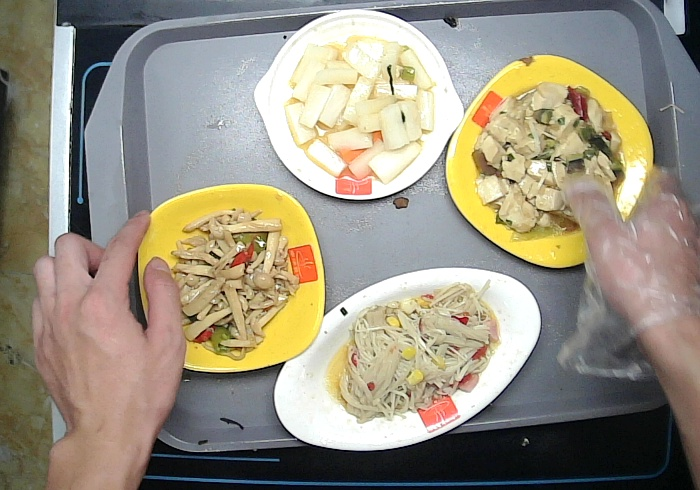SHKJ-Bao_Yu_Pan: (249, 6, 470, 206)
SHKJ-Huang_Se_Cai_Die: (136, 178, 329, 378)
SHKJ-Huang_Se_Si_Fang_Cai_Die: (446, 47, 659, 271)
SHKJ-Yu_Pan: (271, 262, 548, 457)
